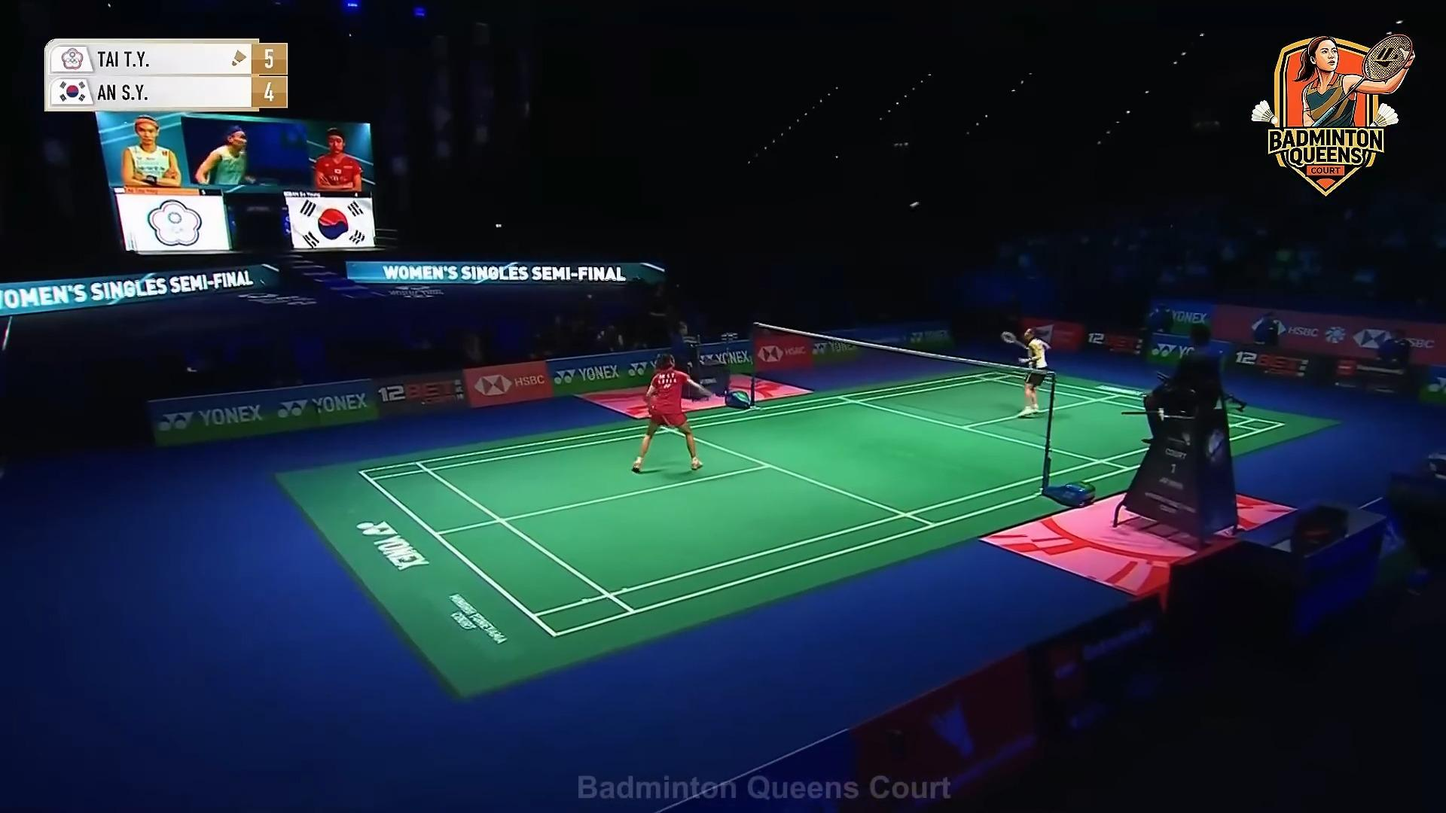player: (631, 352, 720, 475), (1015, 326, 1051, 417)
